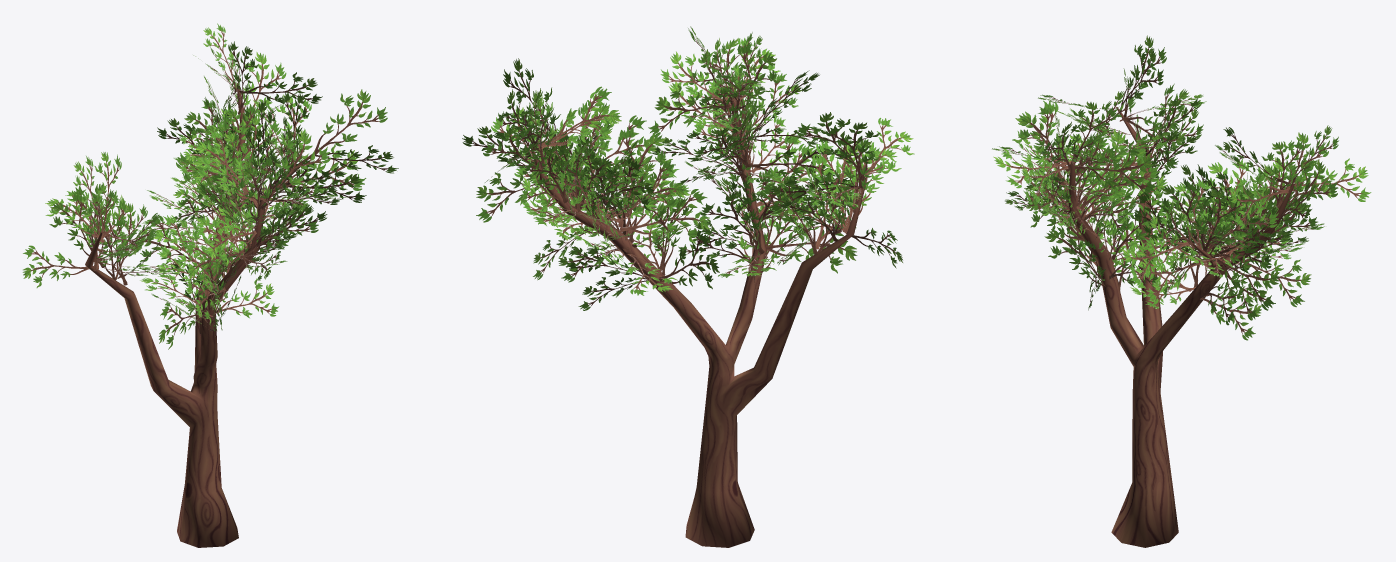
The model's file is TreeTree 1.fbx.
The picture shows the model from 3 angles, left to right: view 1: azimuth 30°, elevation 25°; view 2: azimuth 150°, elevation 25°; view 3: azimuth 270°, elevation 25°; orthographic projection. The views are drawn at different scales.
Parts seen in each view (by area): view 1: Branchers Base color.026, Cube.001; view 2: Branchers Base color.026, Cube.001; view 3: Branchers Base color.026, Cube.001.
Boxes of the visible parts, <box> form: Branchers Base color.026: <box>22,23,398,349</box>; Cube.001: <box>85,83,311,547</box>; Branchers Base color.026: <box>462,26,914,310</box>; Cube.001: <box>529,100,867,547</box>; Branchers Base color.026: <box>992,35,1371,340</box>; Cube.001: <box>1068,107,1294,547</box>.
Bounding box in the file's own units: 1136 × 1227 × 983.
